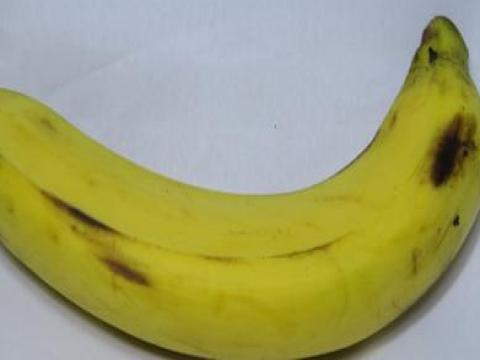freshripe: (0, 7, 479, 359)
